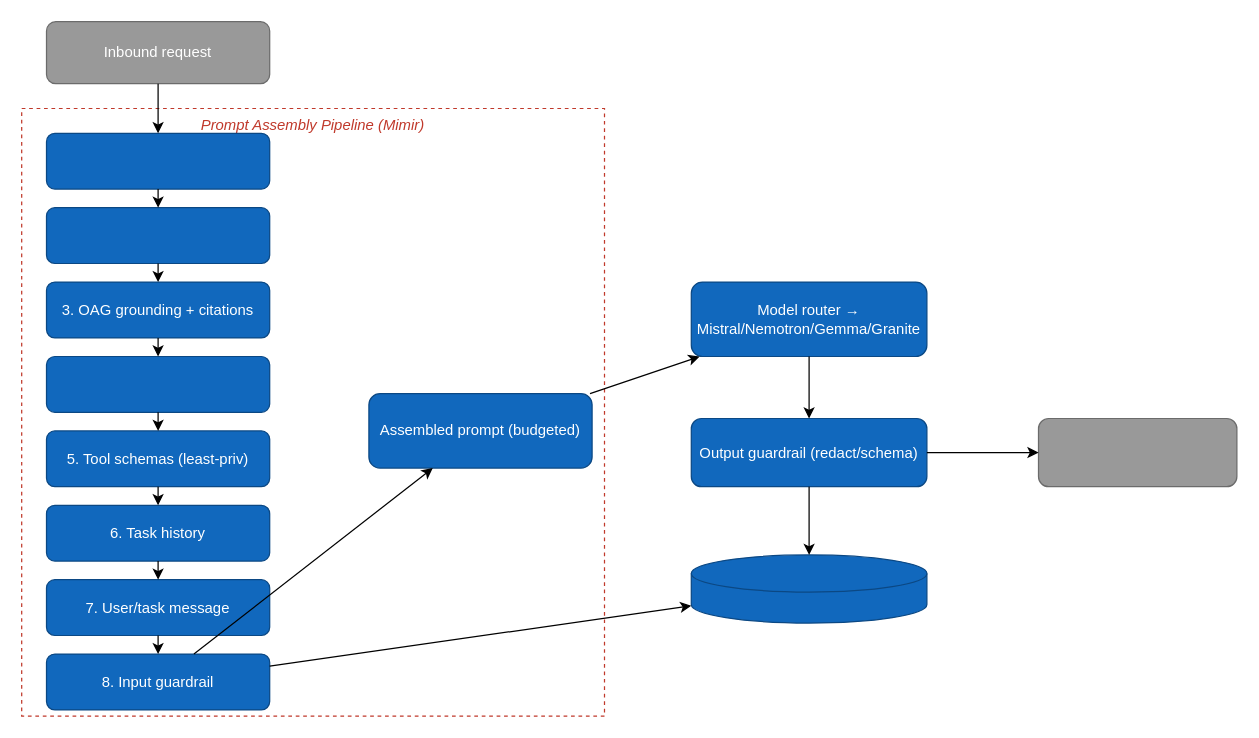
Image size: 1259x738. Some labels were removed from this diagram. The centre of each missing label's shape, as x and y in pixels:
1. System prompt: (x=157, y=160)
2. Policy context: (x=157, y=235)
4. Agent memory (scoped): (x=157, y=383)
Evals + audit (PQ-signed): (x=808, y=588)
Response to caller: (x=1137, y=452)
